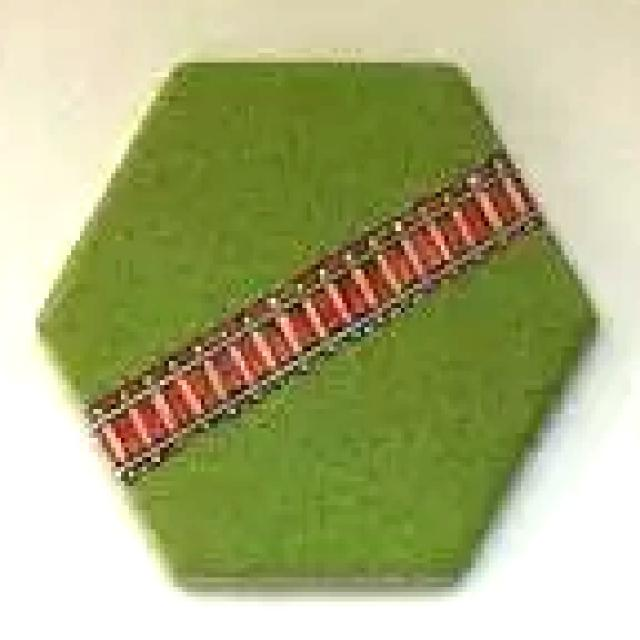3_0: (36, 58, 596, 592)
